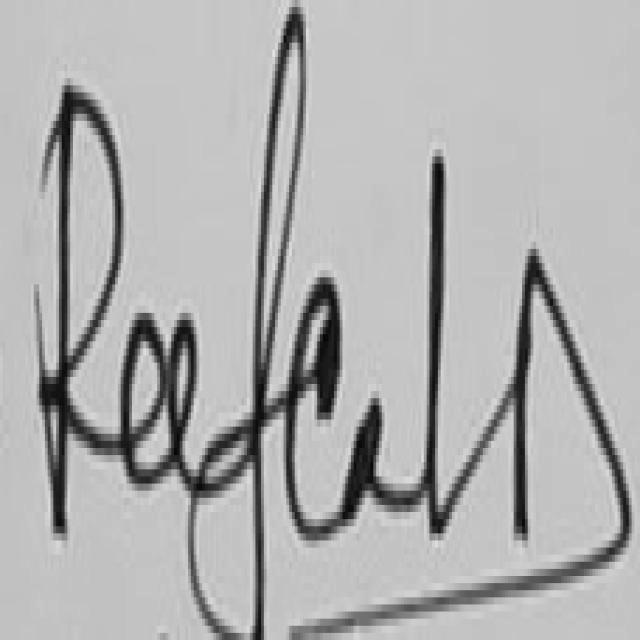D: (498, 188, 638, 639)
R: (29, 44, 122, 558)
a: (341, 369, 416, 572)
c: (285, 283, 349, 552)
e: (112, 311, 166, 520), (166, 306, 202, 496)
f: (168, 10, 341, 640)
l: (396, 96, 487, 582)
